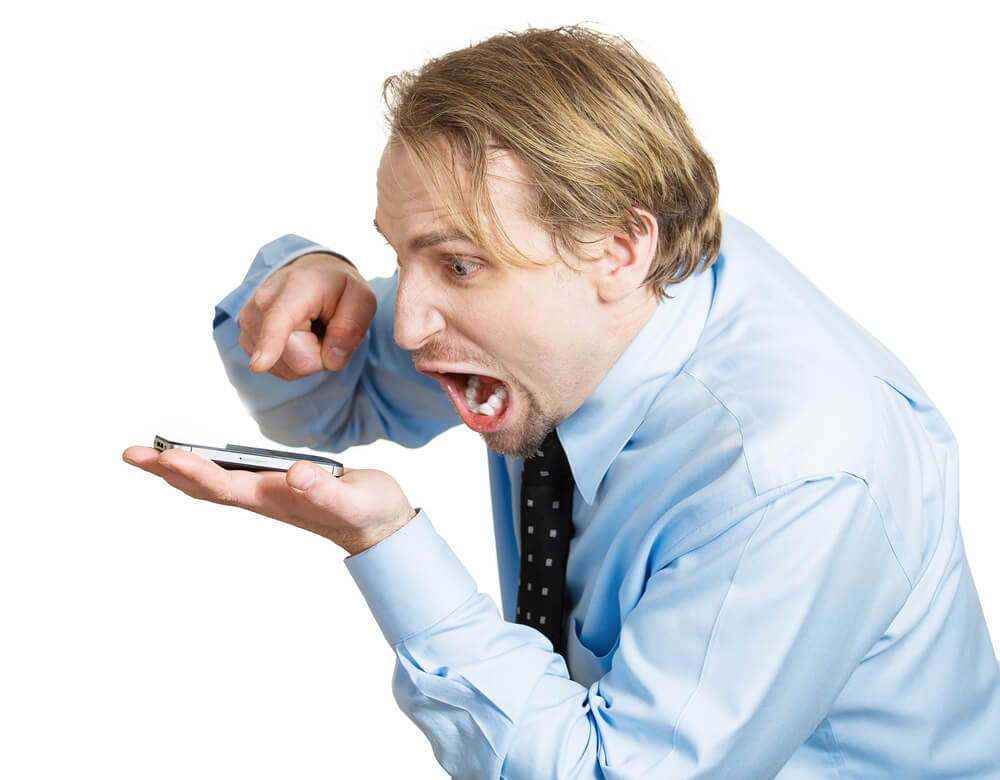human: (114, 22, 1000, 780)
